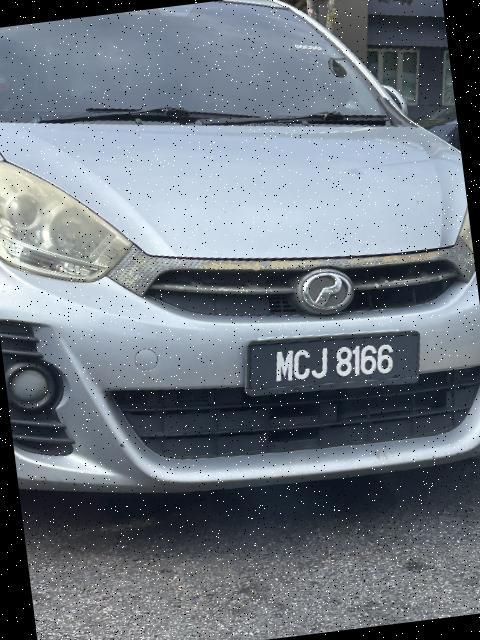License_Plate: (246, 320, 426, 415)
MCJ8166: (246, 320, 426, 415)
car: (1, 1, 480, 525)
